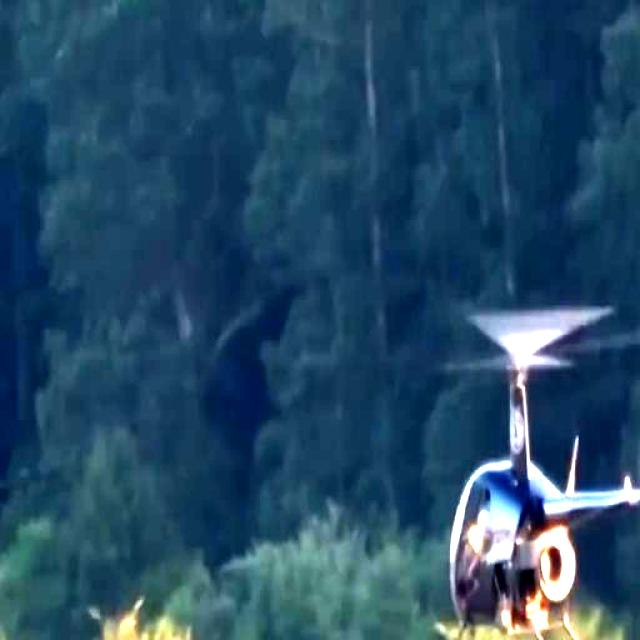drone: (428, 291, 640, 640)
